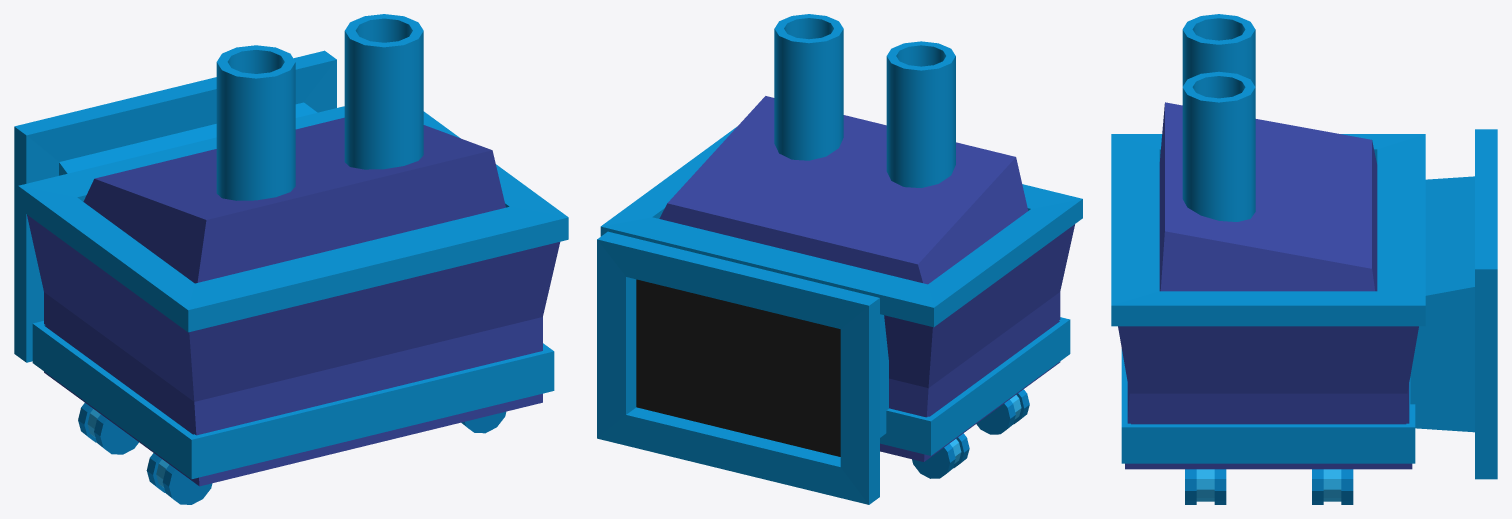
File: Hay Machine Blue.fbx
The picture shows the model from 3 angles, left to right: view 1: azimuth 30°, elevation 25°; view 2: azimuth 150°, elevation 25°; view 3: azimuth 270°, elevation 25°; orthographic projection. The views are drawn at different scales.
Visible parts, largest first — view 1: Hay Machine; view 2: Hay Machine; view 3: Hay Machine.
Part boxes in pixels (x1,y1,x2,y2): Hay Machine: (14,14,568,504); Hay Machine: (597,14,1082,504); Hay Machine: (1111,14,1497,504).
Bounding box in the file's own units: 5.82 × 5.98 × 5.53.
